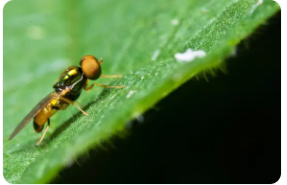liriomyza: (7, 54, 126, 145)
